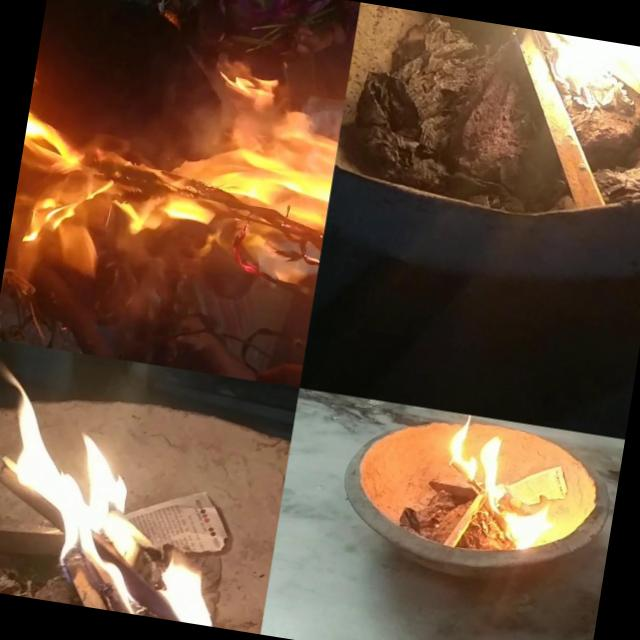fire: (0, 339, 263, 629), (418, 416, 566, 570), (465, 21, 640, 123)
